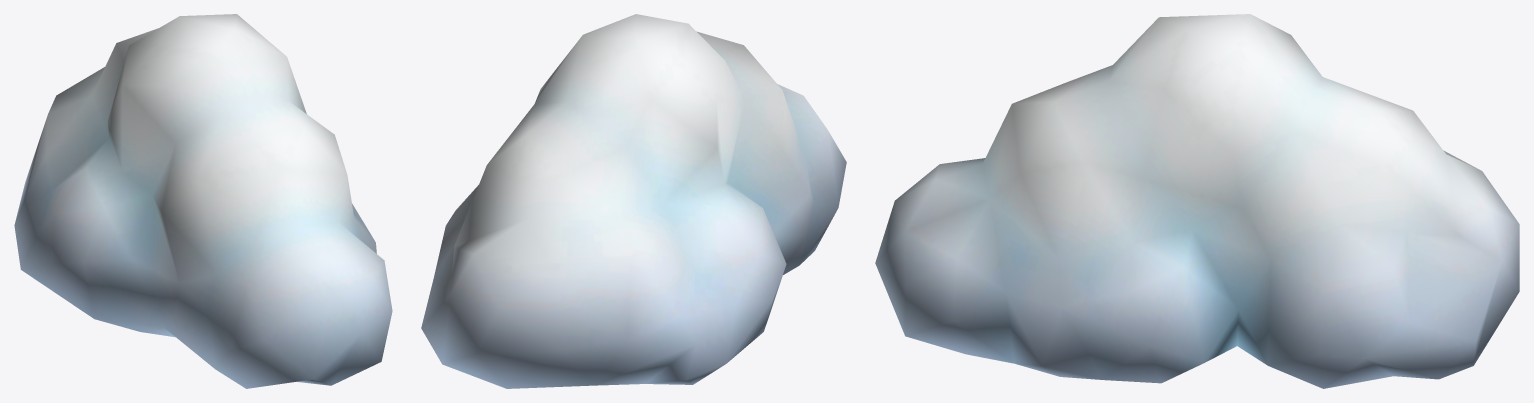
The model's file is cloud_1.fbx.
3 views of the same model, side by side, from view 1: azimuth 30°, elevation 25°; view 2: azimuth 150°, elevation 25°; view 3: azimuth 270°, elevation 25° (orthographic). The views are drawn at different scales.
Parts seen in each view (by area): view 1: cloud_1; view 2: cloud_1; view 3: cloud_1.
Part boxes in pixels (x1=…): cloud_1: x1=14, y1=14, x2=392, y2=388; cloud_1: x1=421, y1=14, x2=846, y2=388; cloud_1: x1=875, y1=14, x2=1519, y2=388.
Size of the model in its own units: 12.13 by 12.02 by 21.65.
